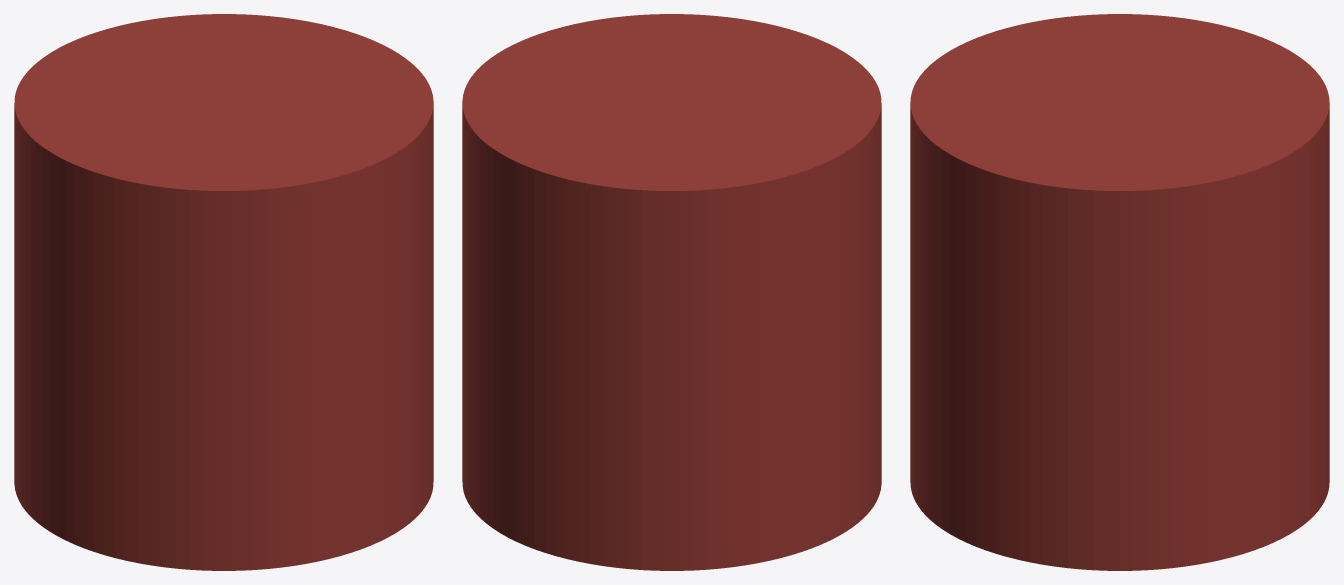
File: CylinderR.fbx
3 views of the same model, side by side, from view 1: azimuth 30°, elevation 25°; view 2: azimuth 150°, elevation 25°; view 3: azimuth 270°, elevation 25° (orthographic).
Parts seen in each view (by area): view 1: CylinderR; view 2: CylinderR; view 3: CylinderR.
Part boxes in pixels (left/top/right/bottom): CylinderR: left=14, top=14, right=433, bottom=570; CylinderR: left=462, top=14, right=881, bottom=570; CylinderR: left=910, top=14, right=1329, bottom=570.
Bounding box in the file's own units: 600 × 600 × 600.
